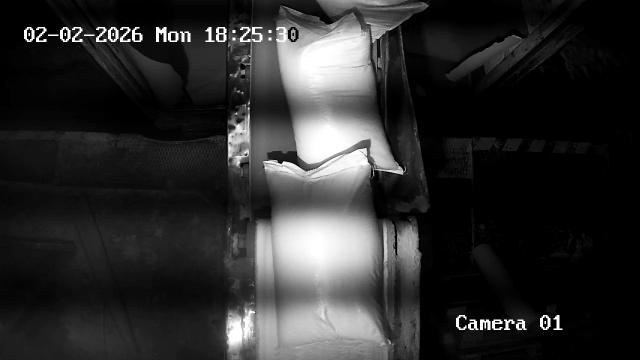bag: (265, 148, 389, 346), (278, 6, 404, 175), (317, 0, 428, 42)
